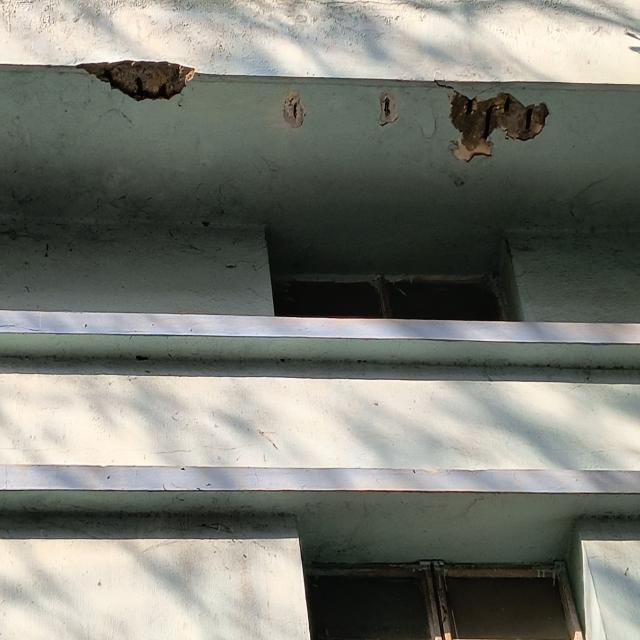spalling: (449, 91, 549, 162), (77, 61, 195, 101), (283, 90, 306, 129), (378, 92, 398, 126)
